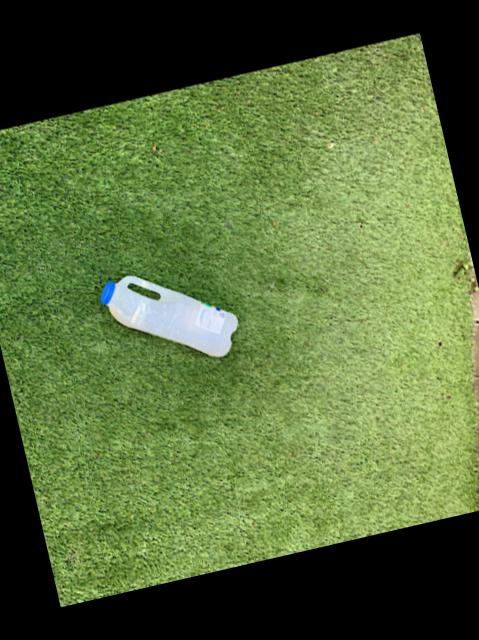plastic: (99, 274, 236, 354)
